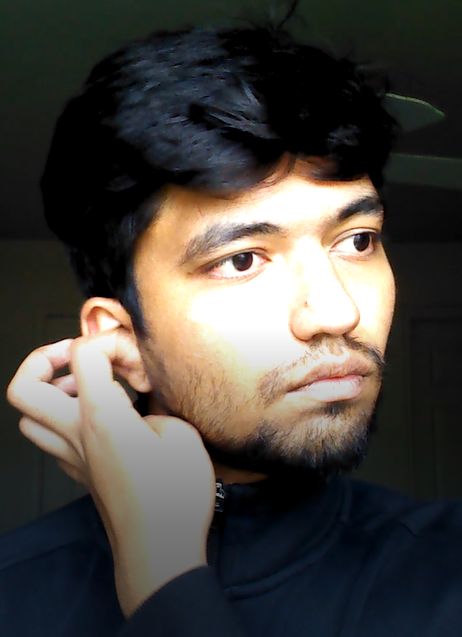Not Sleeping: (177, 196, 395, 289)
